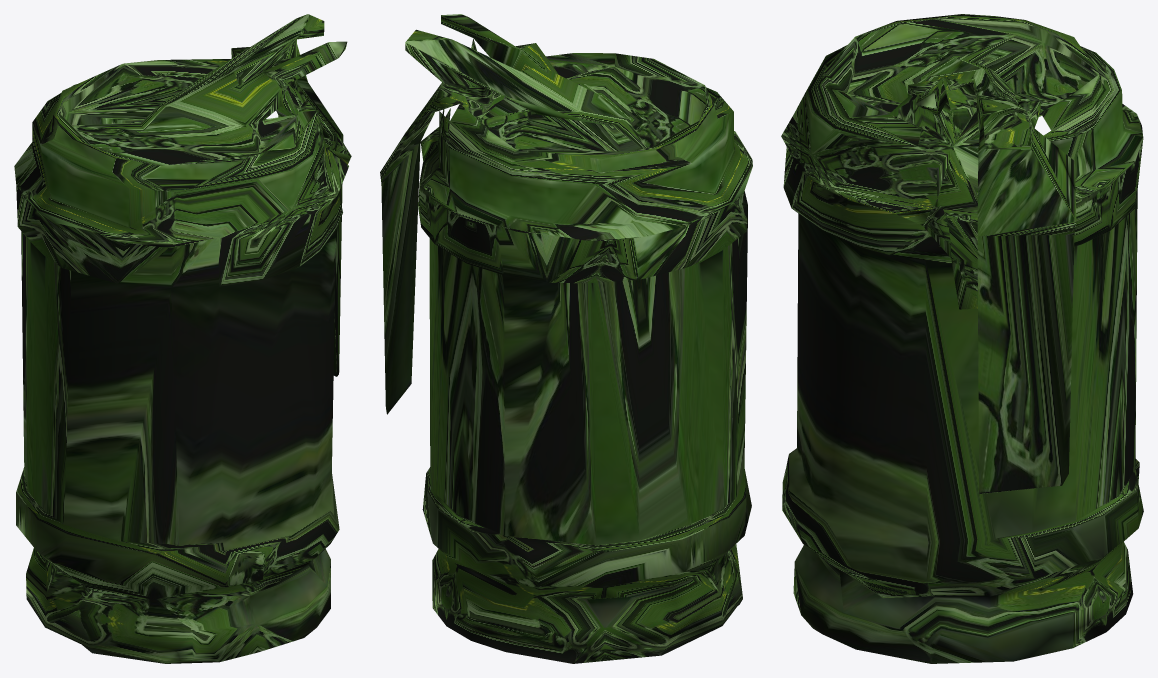
The model's file is gel.glb.
3 views of the same model, side by side, from view 1: azimuth 30°, elevation 25°; view 2: azimuth 150°, elevation 25°; view 3: azimuth 270°, elevation 25° (orthographic). The views are drawn at different scales.
Parts seen in each view (by area): view 1: gel; view 2: gel; view 3: gel.
Part boxes in pixels (bbox=[...]): gel: bbox=[14, 14, 351, 663]; gel: bbox=[380, 14, 752, 663]; gel: bbox=[781, 14, 1143, 663].
Size of the model in its own units: 0.6113 by 0.9955 by 0.5661.
Materials: 1 (1 with a texture image).
